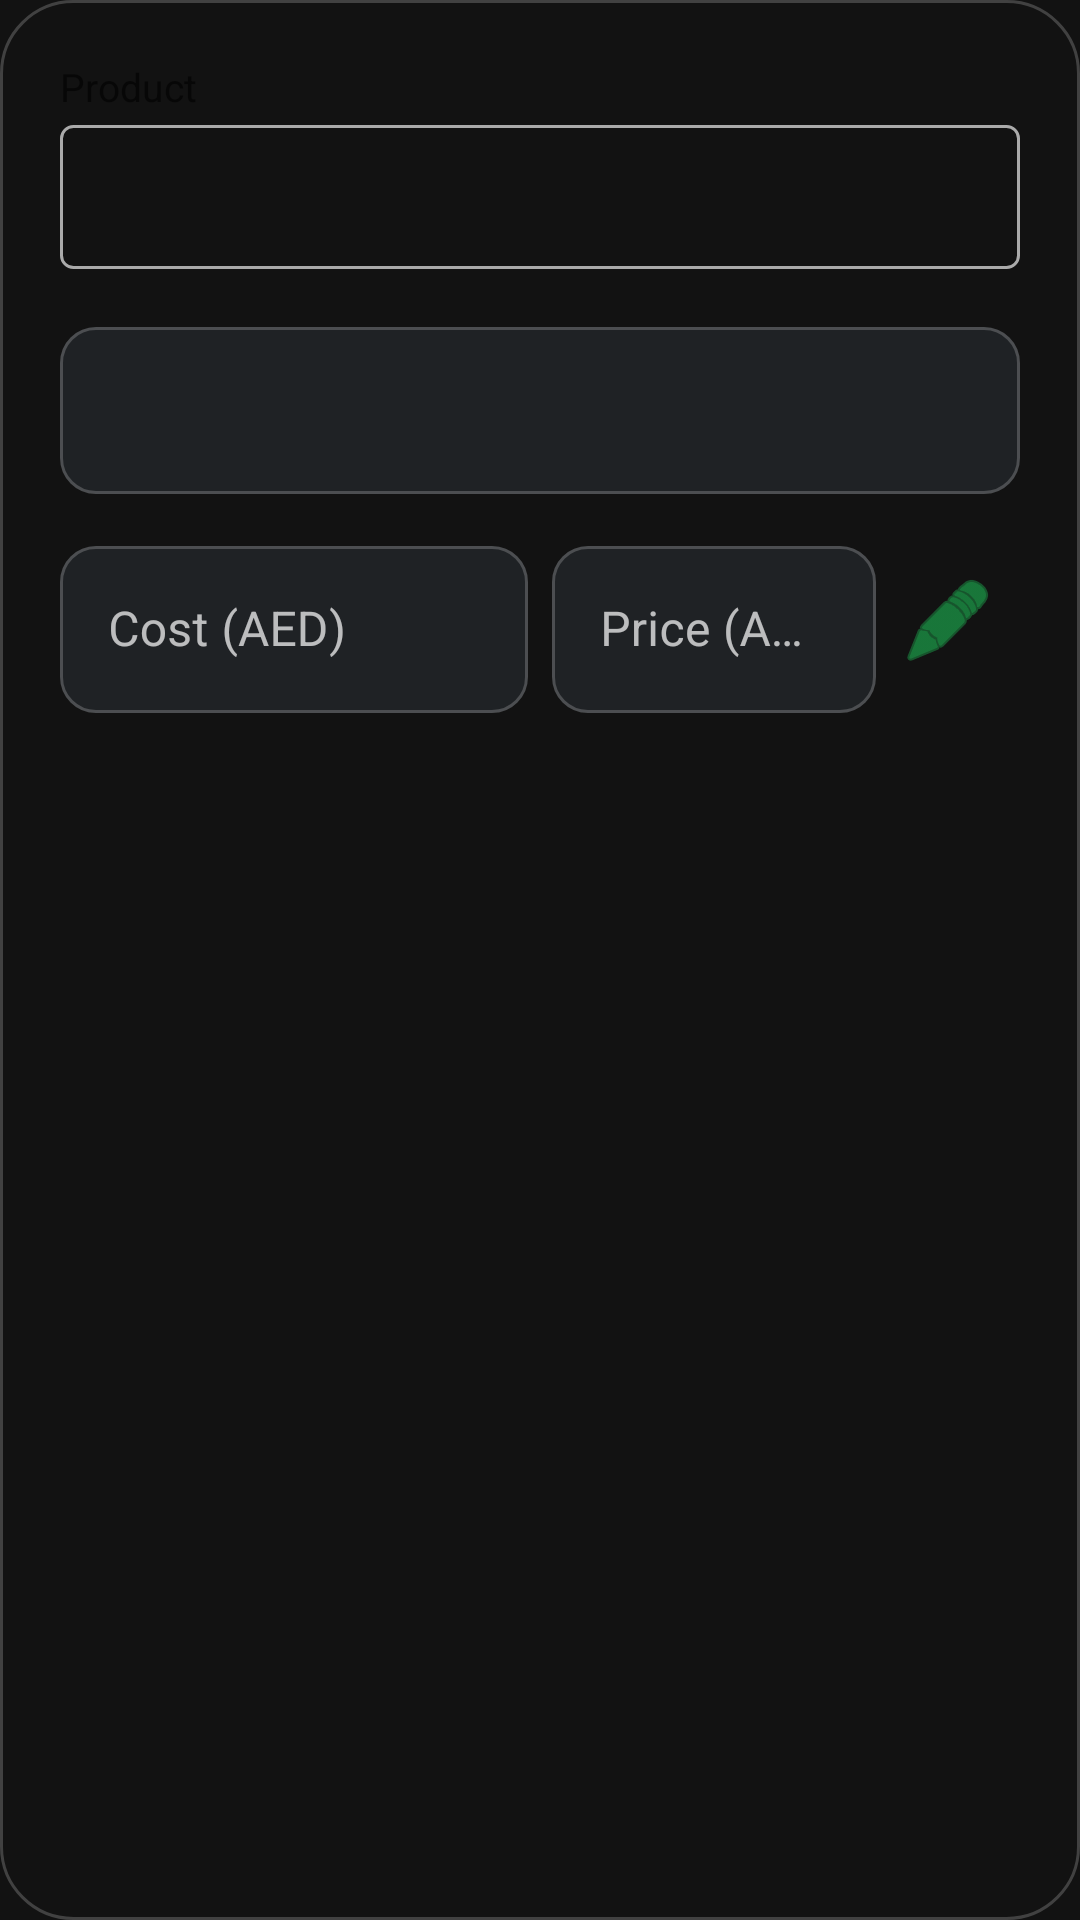

Screen size 1080px x 1920px. Icon name, then its box in pixels as (x1, y1, x2, y2):
edit: (907, 580, 988, 661)
